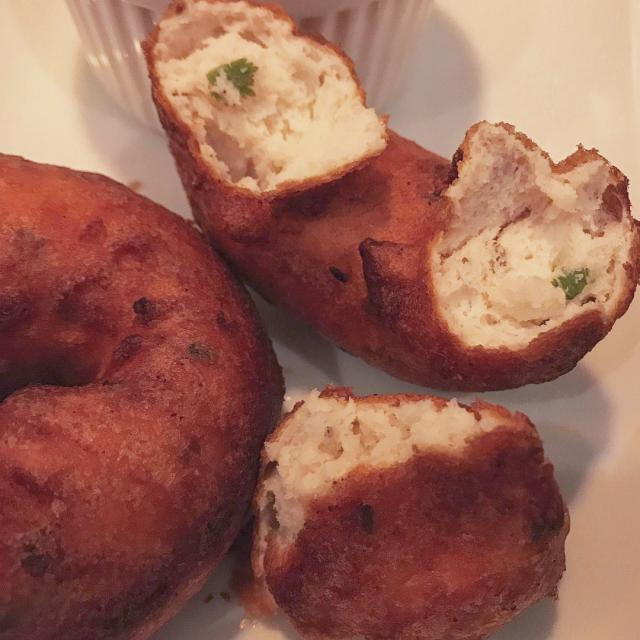Wet Waste: (187, 42, 636, 367), (6, 148, 283, 640), (252, 390, 572, 640)
